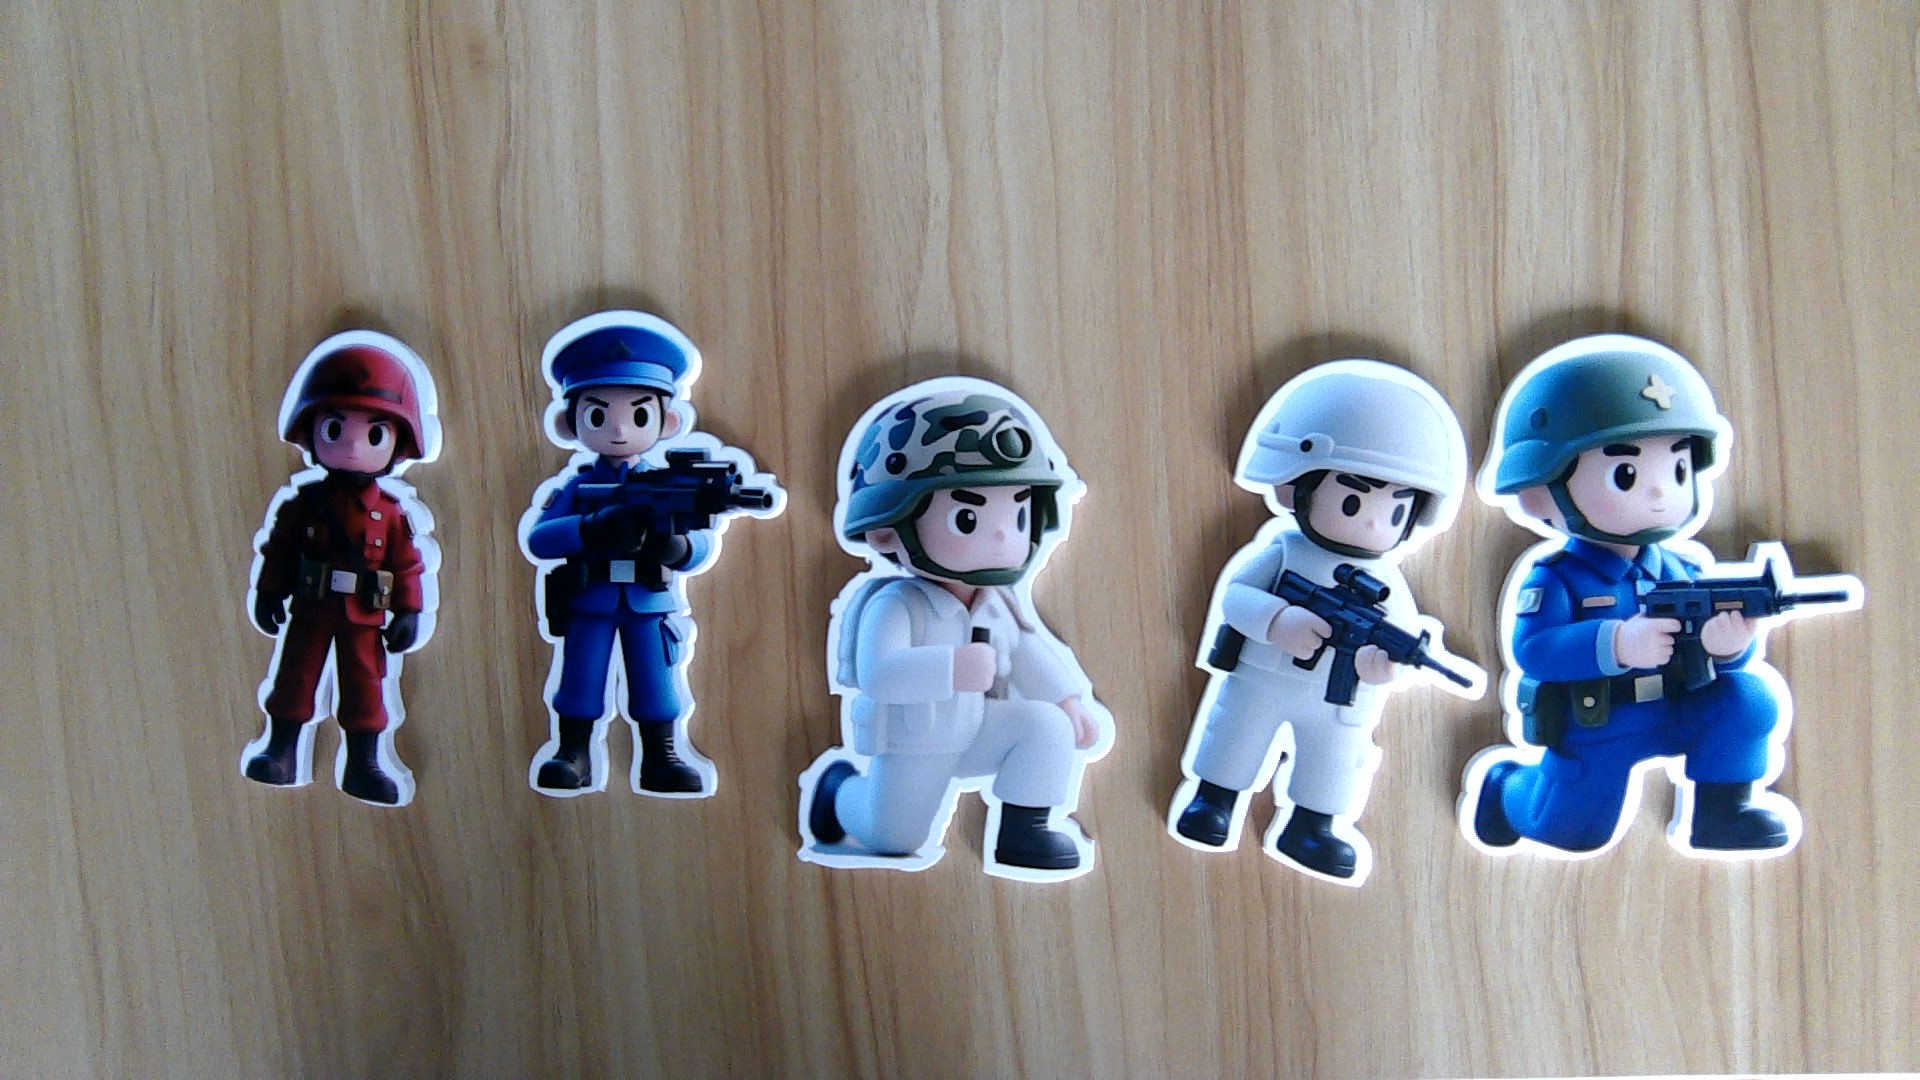人质: (1166, 546, 1455, 894), (796, 582, 1118, 887)
敌人1: (236, 471, 443, 807)
敌人2: (1462, 549, 1865, 864), (509, 447, 789, 798)
